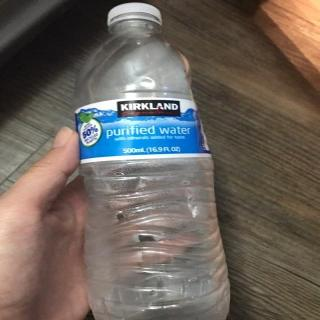Plastic-bottle: (69, 2, 235, 320)
